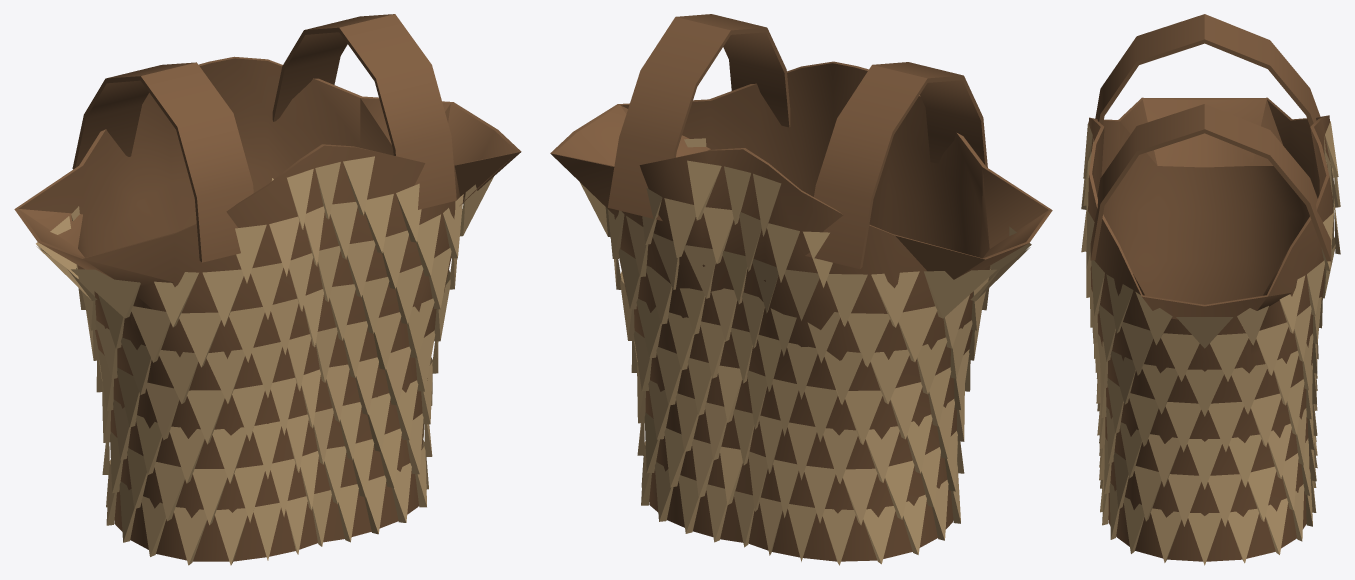
Rendered from lorica_squamata.glb.
The picture shows the model from 3 angles, left to right: view 1: azimuth 30°, elevation 25°; view 2: azimuth 150°, elevation 25°; view 3: azimuth 270°, elevation 25°; orthographic projection. The views are drawn at different scales.
Parts seen in each view (by area): view 1: OUT; view 2: OUT; view 3: OUT.
Boxes of the visible parts, x1,y1,x2,y2 form: OUT: (14,14,521,565); OUT: (550,14,1052,565); OUT: (1081,14,1340,565).
Size of the model in its own units: 0.5335 by 0.512 by 0.2807.
